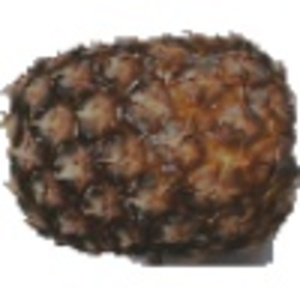abacaxi: (4, 26, 296, 258)
